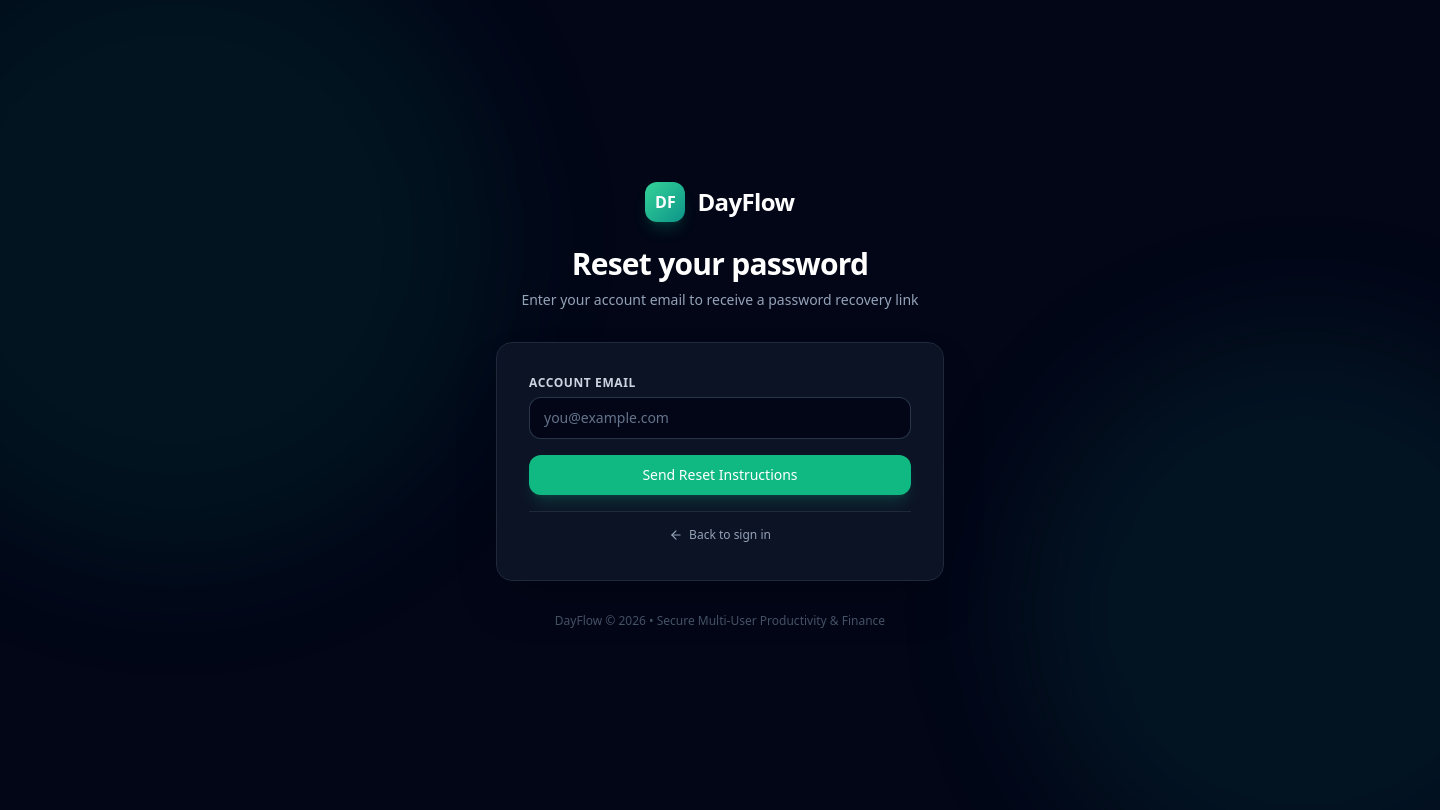
Test: Email Verification & Password Recovery Pages › ForgotPasswordPage › validates empty email and submits valid email
The width and height of the screenshot is (1440, 810).
Click the button "Send Reset Instructions" at x=720, y=474, box [529, 454, 911, 494]
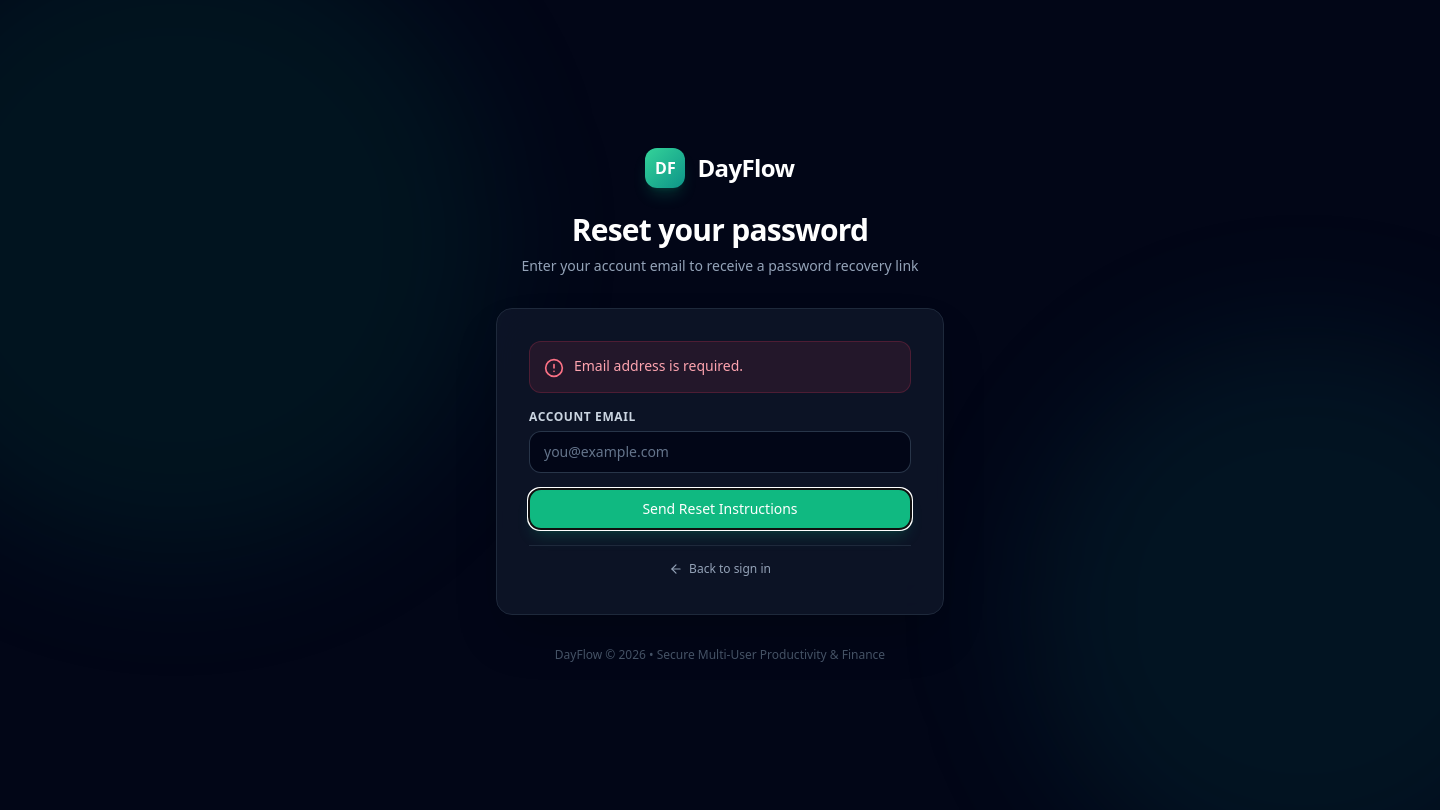
Check: the text "Email address is required." is shown, box [574, 356, 743, 376]
Type "user@example.com" into the field labelled "Account Email" at x=720, y=452, box [529, 430, 911, 472]
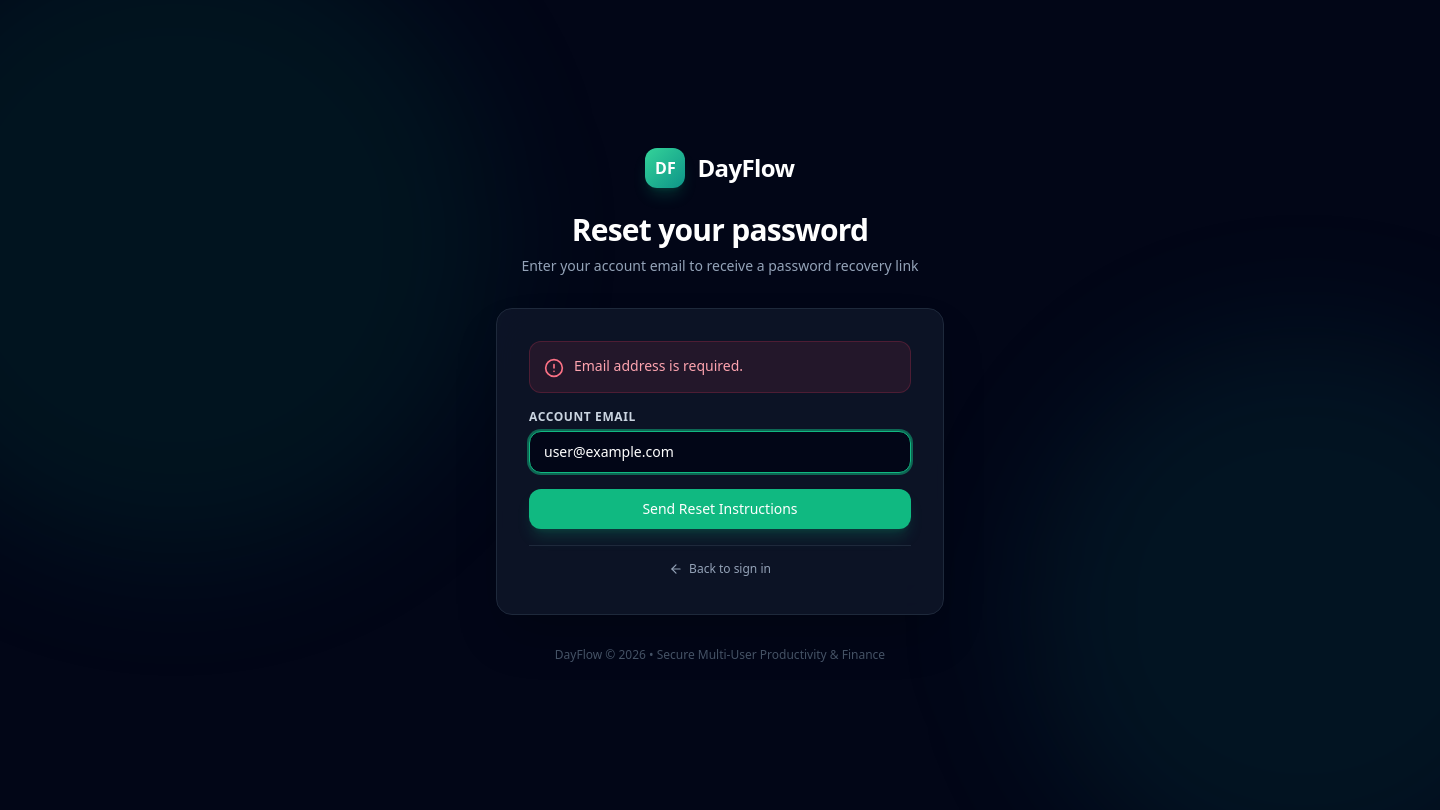
Click the button "Send Reset Instructions" at x=720, y=508, box [529, 488, 911, 528]
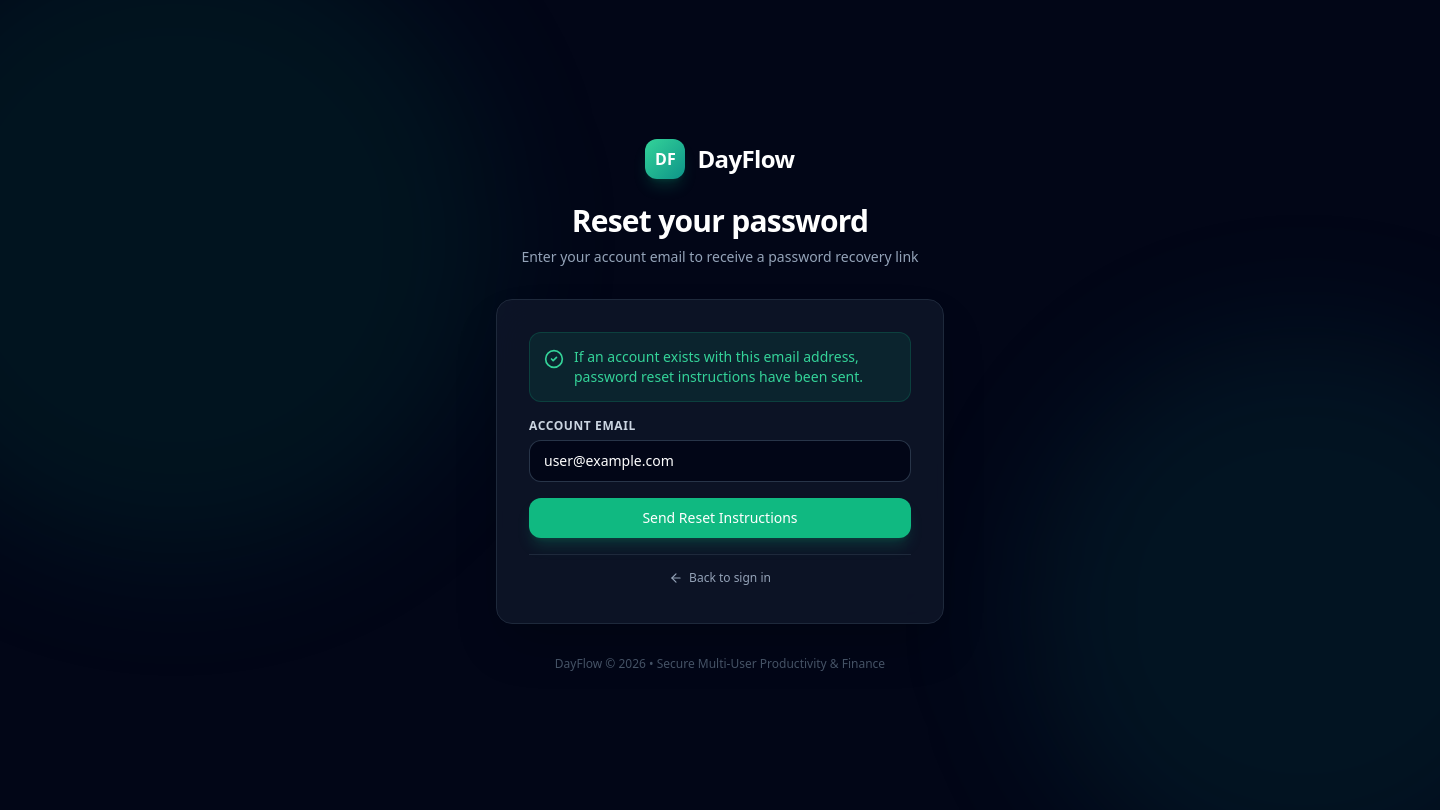
Check: the text "instructions have been sent" is shown, box [574, 346, 863, 386]
